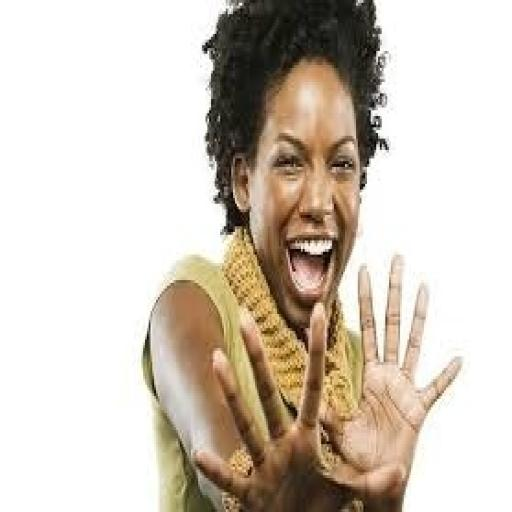laughing: (134, 0, 466, 509)
